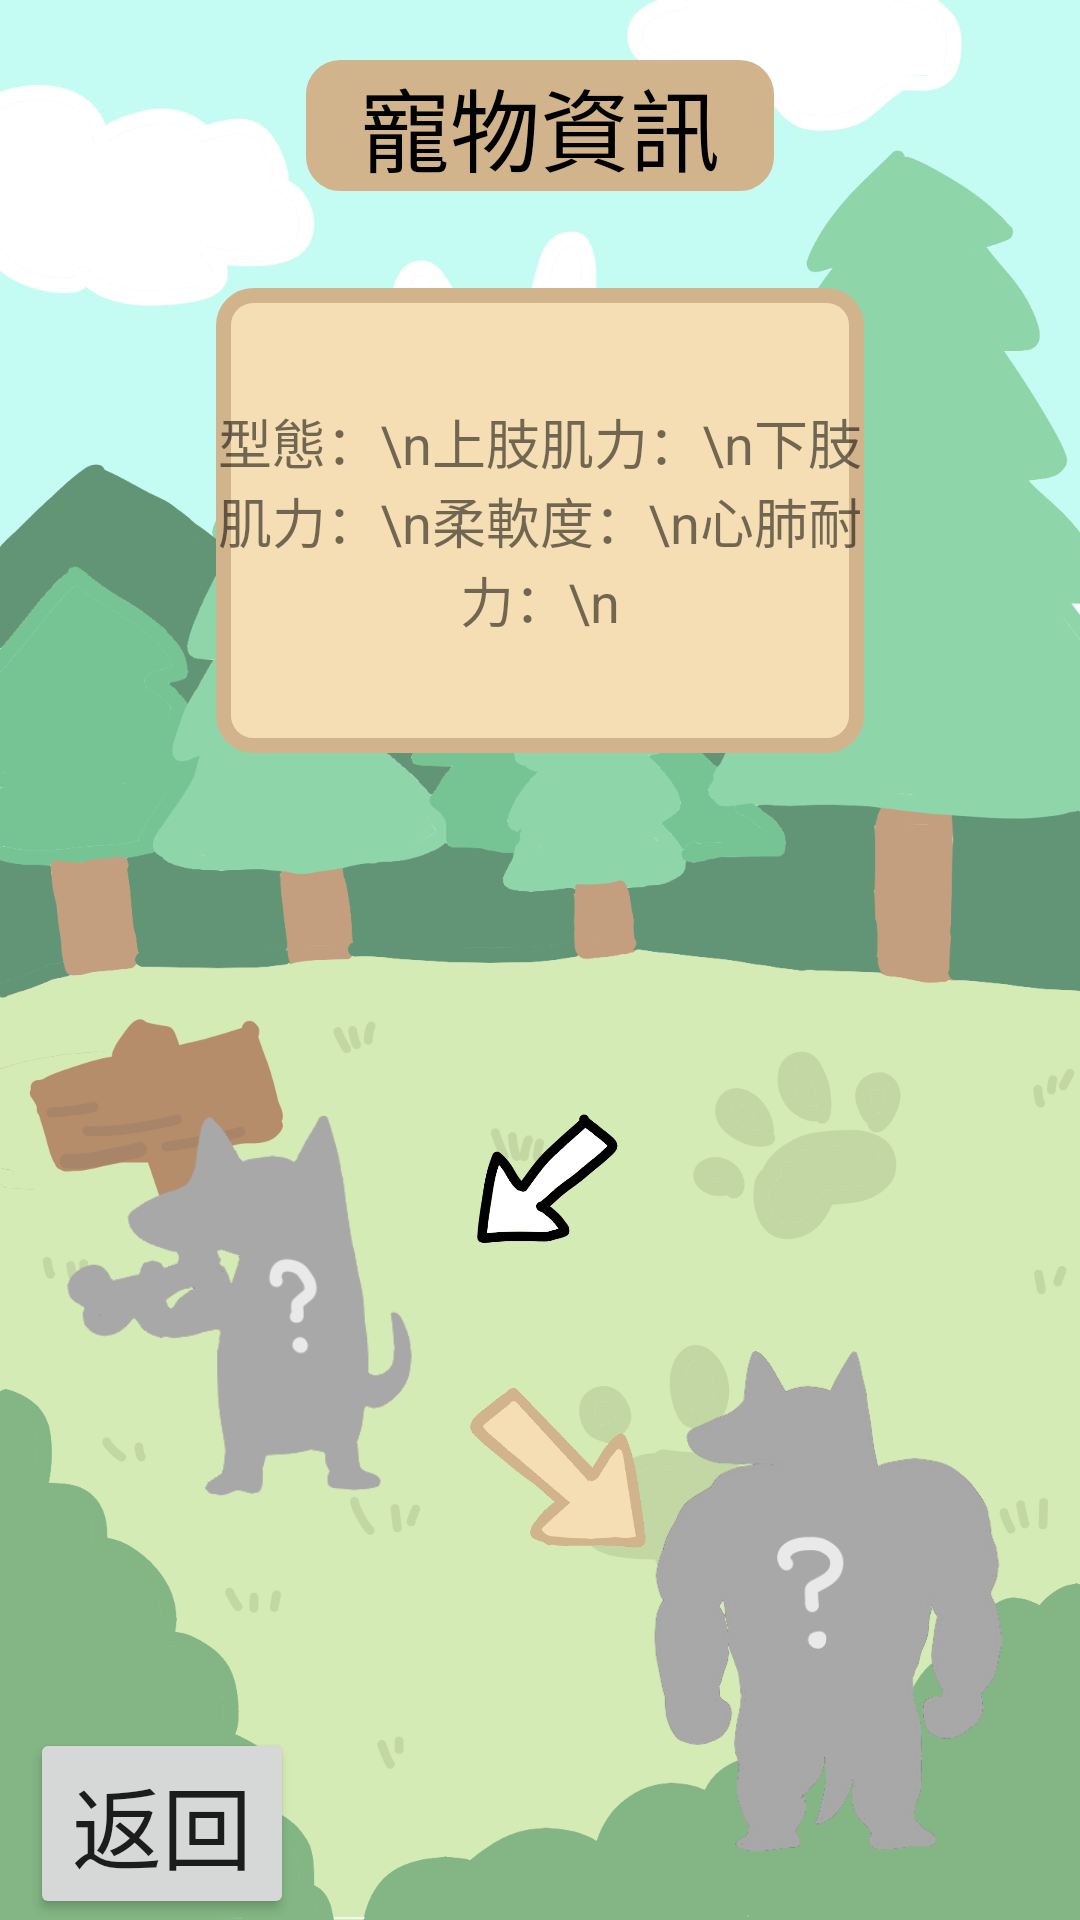

Screen size 1080px×1920px. Icon name, then its box in pixels as (x1, y1, x2, y2):
arrow: (477, 1114, 618, 1243), (470, 1388, 646, 1548)
